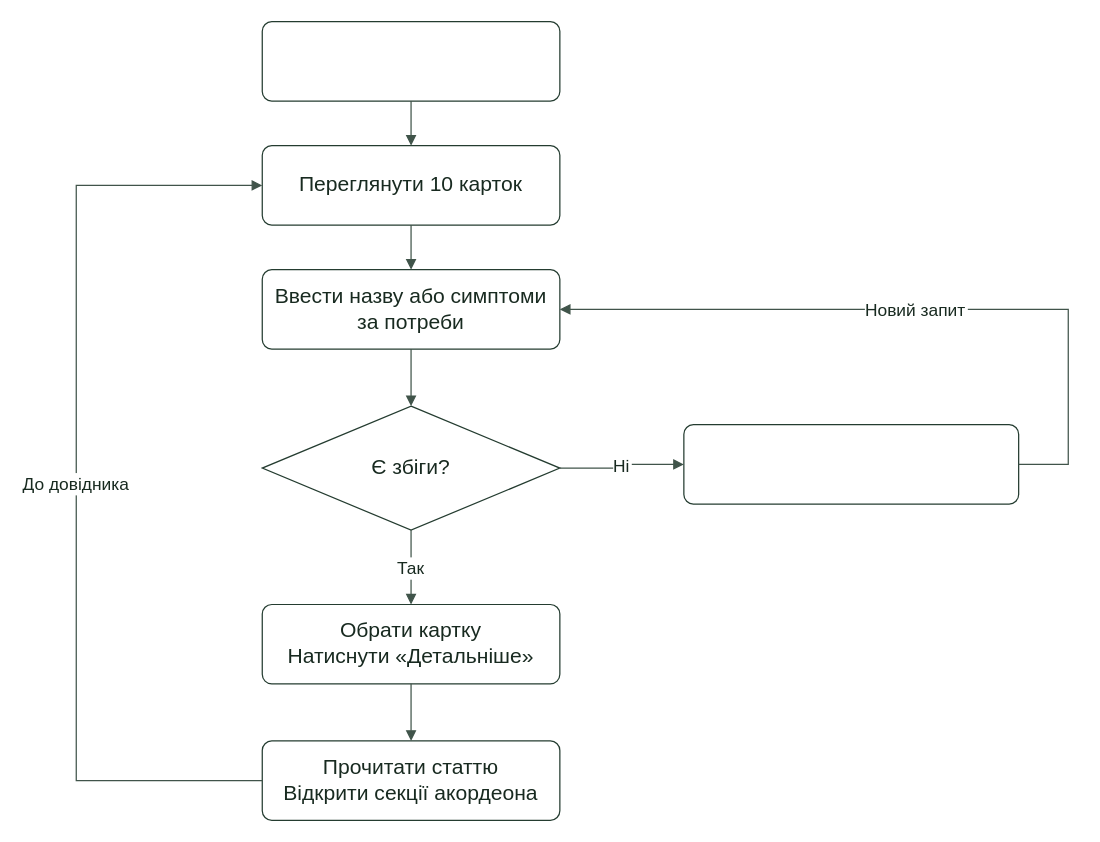
The diagram is 1100 pixels wide and 842 high, and some of its shapes have lost their labels. Here are the shapes that lost their labels. From the top down, the centre of each, then its label:
At [410,60]: "Відкрити довідник із навігації".
At [851,463]: "«Хвороб не знайдено» Змінити або очистити запит".
